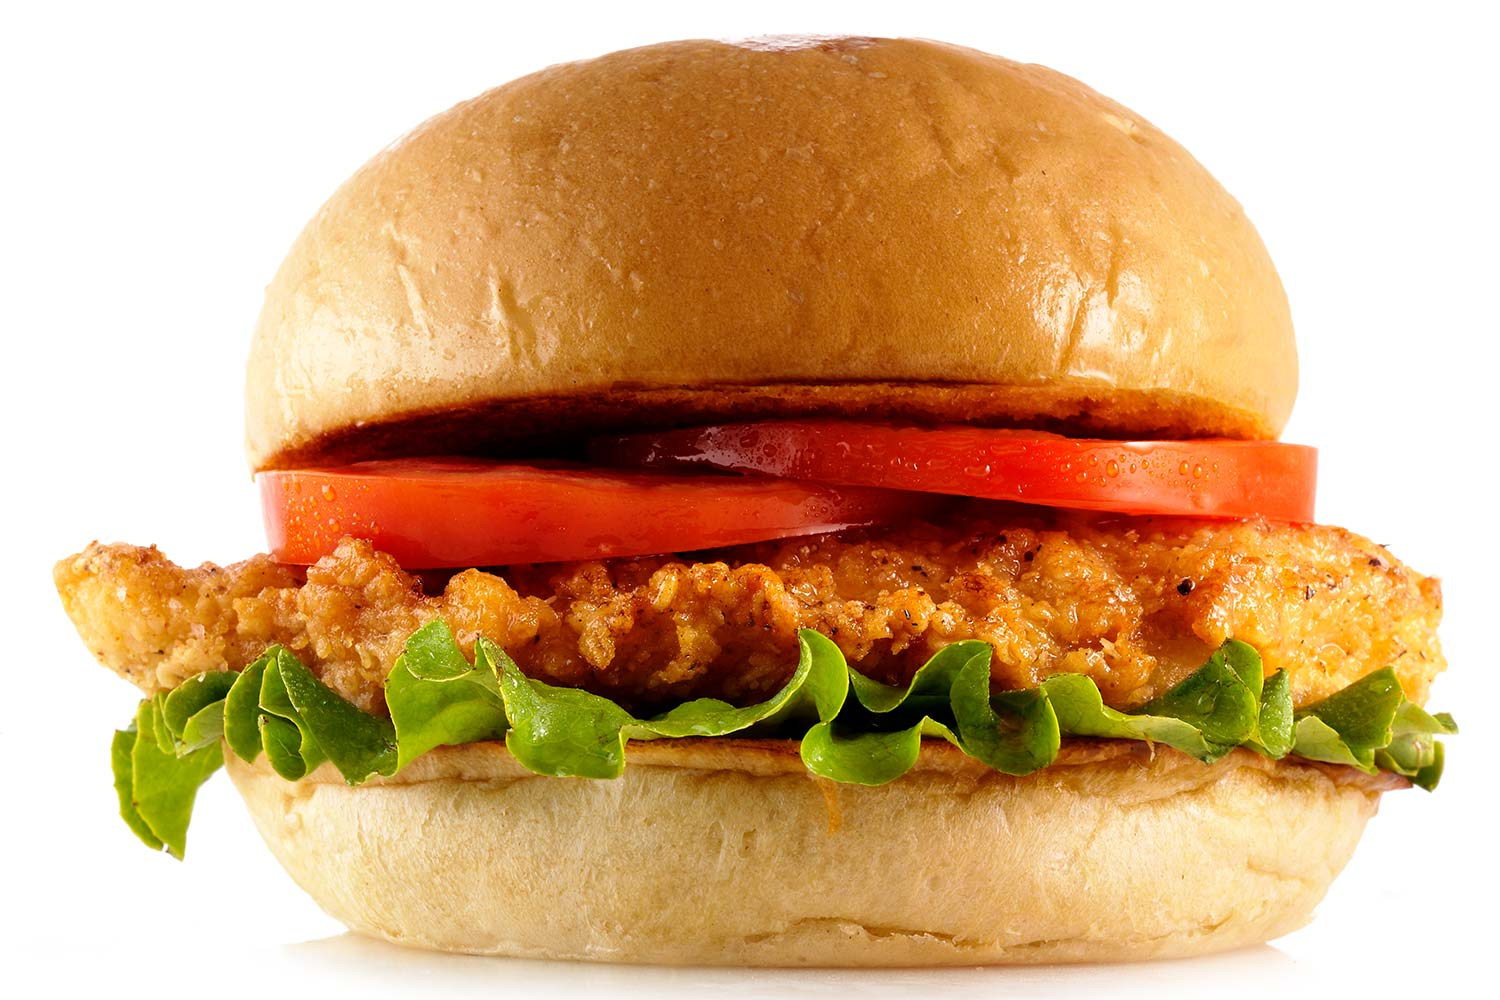hamburger_buns: (212, 80, 1429, 916)
